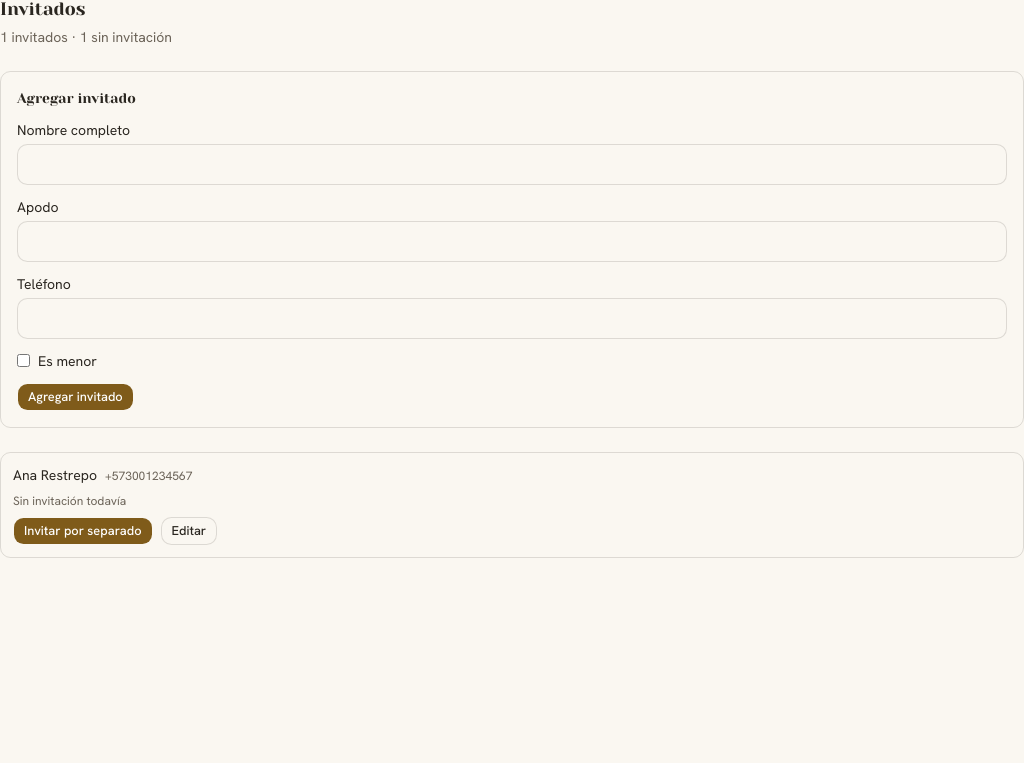
Test: how much a row says › offers it inside the editor, where the change was already intended
Click the button "Editar" at {"x": 189, "y": 530}, box [161,516,217,544]
(page scrolled)
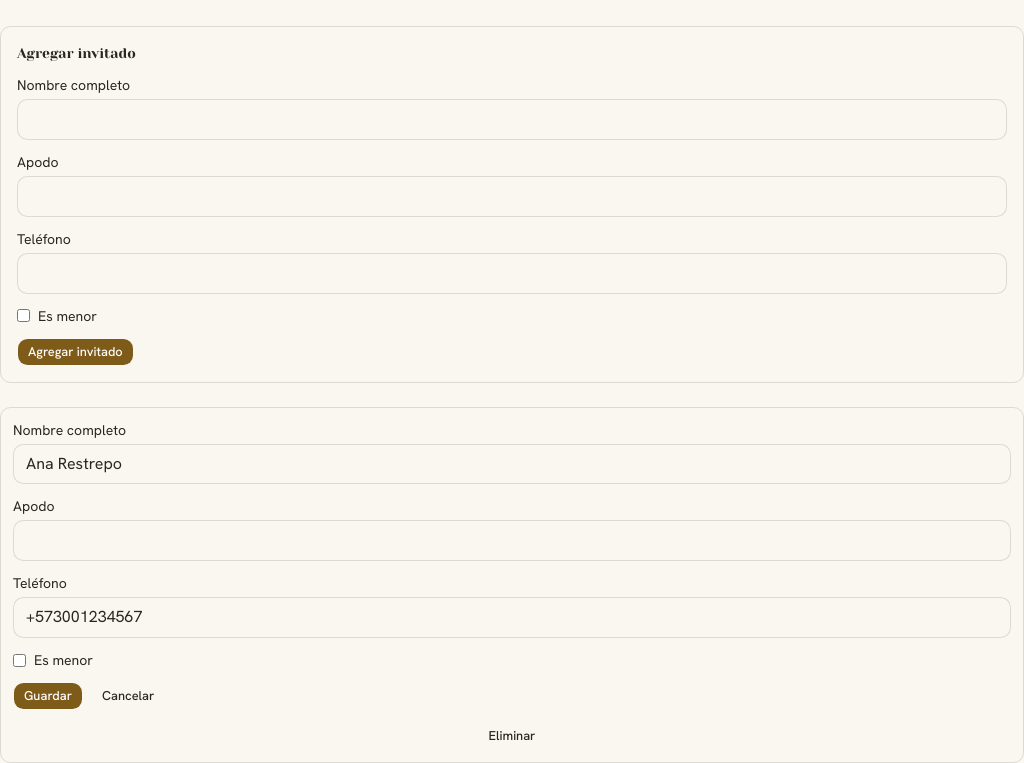
Expected: the button "Eliminar" is shown, [13,722,1011,750]
